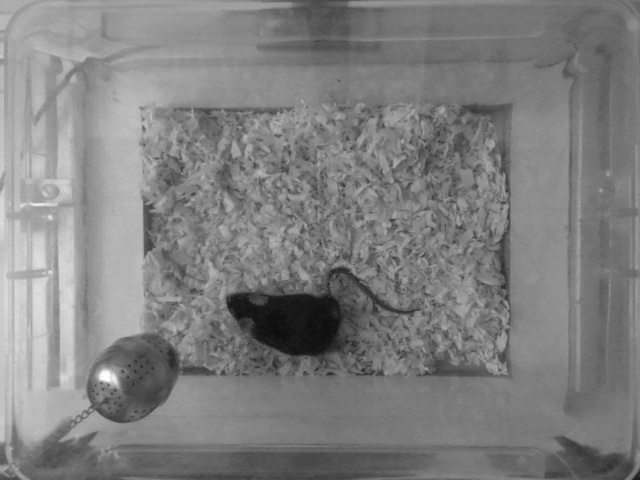mice: (222, 263, 416, 360)
